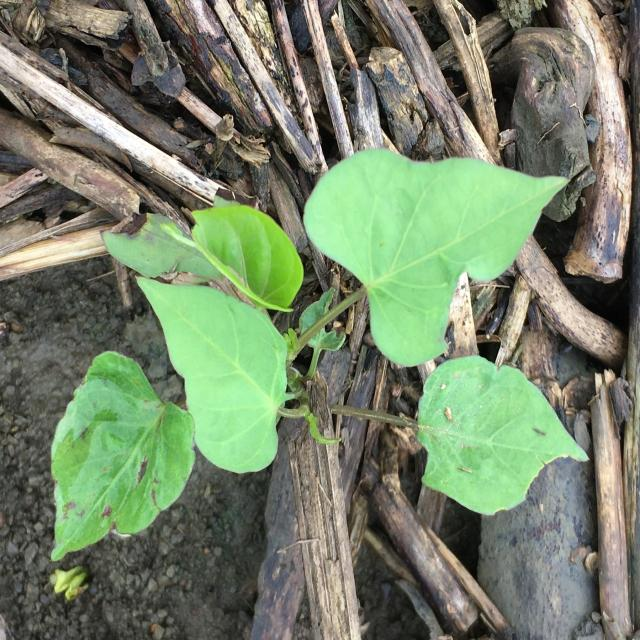MorningGlory: (50, 148, 590, 562)
